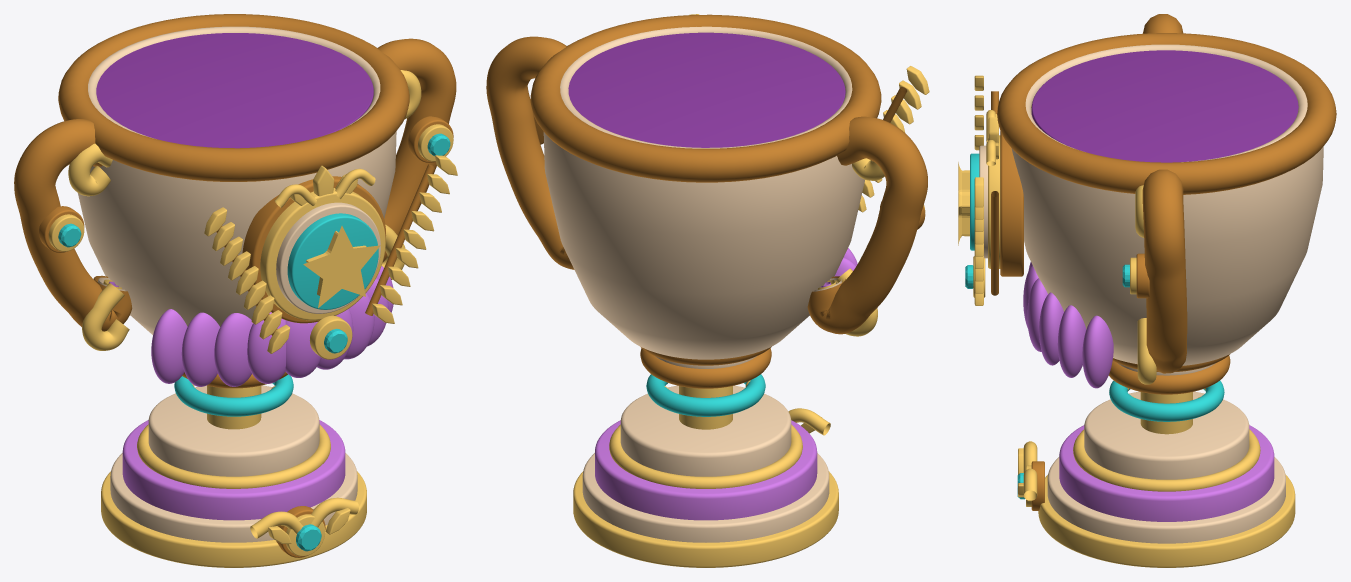
Rendered from tournament-model.glb.
The picture shows the model from 3 angles, left to right: view 1: azimuth 30°, elevation 25°; view 2: azimuth 150°, elevation 25°; view 3: azimuth 270°, elevation 25°; orthographic projection. The views are drawn at different scales.
Parts seen in each view (by area): view 1: Cup Purple Interior, Tournament Cup Body, Cup Dark Gold Lip Shadow, Base Upper Cream, Handle Dark Gold Edge -1, Base Purple Band, Base Gold Foot, Handle Dark Gold Edge 1, Base Cream Lower Tier, Tournament Medal Turquoise, Tournament Medal Gold, Base Upper Gold Lip (+23 smaller); view 2: Tournament Cup Body, Cup Purple Interior, Cup Dark Gold Lip Shadow, Handle Dark Gold Edge -1, Base Upper Cream, Handle Dark Gold Edge 1, Base Purple Band, Base Gold Foot, Base Cream Lower Tier, Cup Cream Inner Lip, Base Upper Gold Lip, Stem Upper Dark Collar (+4 smaller); view 3: Tournament Cup Body, Cup Purple Interior, Cup Dark Gold Lip Shadow, Base Upper Cream, Handle Dark Gold Edge 1, Base Purple Band, Base Gold Foot, Base Cream Lower Tier, Cup Cream Inner Lip, Base Upper Gold Lip, Tournament Medal Dark Rim, Stem Turquoise Collar (+15 smaller).
Boxes of the visible parts, x1,y1,x2,y2 form: Cup Purple Interior: [96, 33, 373, 148]; Tournament Cup Body: [78, 131, 396, 334]; Cup Dark Gold Lip Shadow: [58, 14, 409, 181]; Base Upper Cream: [148, 385, 319, 476]; Handle Dark Gold Edge -1: [14, 119, 132, 331]; Base Purple Band: [122, 420, 345, 520]; Base Gold Foot: [101, 471, 366, 567]; Handle Dark Gold Edge 1: [377, 38, 456, 261]; Base Cream Lower Tier: [110, 453, 357, 542]; Tournament Medal Turquoise: [287, 213, 378, 309]; Tournament Medal Gold: [260, 188, 385, 320]; Base Upper Gold Lip: [137, 424, 330, 488]; Tournament Cup Body: [543, 132, 864, 359]; Cup Purple Interior: [568, 32, 845, 147]; Cup Dark Gold Lip Shadow: [530, 14, 881, 182]; Handle Dark Gold Edge -1: [807, 116, 927, 334]; Base Upper Cream: [620, 385, 791, 476]; Handle Dark Gold Edge 1: [486, 36, 574, 269]; Base Purple Band: [595, 420, 817, 520]; Base Gold Foot: [573, 471, 838, 567]; Base Cream Lower Tier: [582, 453, 829, 542]; Cup Cream Inner Lip: [560, 26, 852, 148]; Base Upper Gold Lip: [609, 424, 802, 488]; Stem Upper Dark Collar: [640, 348, 771, 388]; Tournament Cup Body: [1011, 108, 1323, 365]; Cup Purple Interior: [1031, 50, 1298, 162]; Cup Dark Gold Lip Shadow: [997, 33, 1336, 194]; Base Upper Cream: [1084, 391, 1249, 479]; Handle Dark Gold Edge 1: [1142, 169, 1187, 373]; Base Purple Band: [1059, 425, 1274, 521]; Base Gold Foot: [1038, 474, 1295, 567]; Base Cream Lower Tier: [1047, 457, 1285, 543]; Cup Cream Inner Lip: [1025, 44, 1307, 162]; Base Upper Gold Lip: [1073, 429, 1260, 491]; Tournament Medal Dark Rim: [1000, 131, 1023, 276]; Stem Turquoise Collar: [1109, 380, 1224, 421].
Size of the model in its own units: 3.71 by 3.53 by 2.88.
